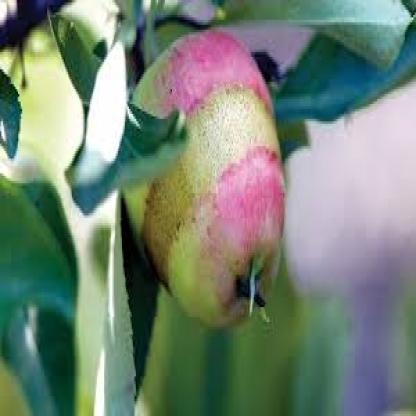damaged_apple: (126, 60, 287, 330)
